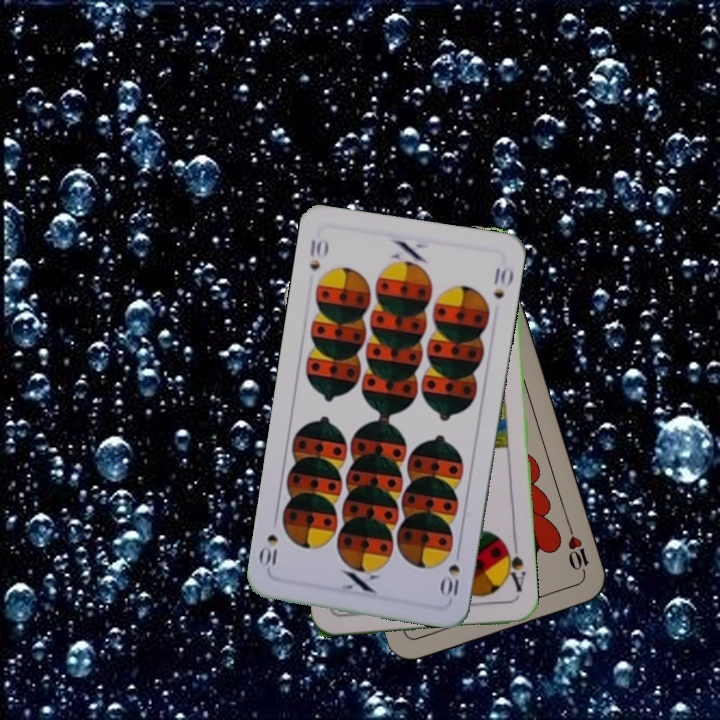H10: (564, 522, 591, 580)
S10: (305, 234, 331, 274), (438, 560, 462, 603)
SA: (500, 541, 528, 595)
